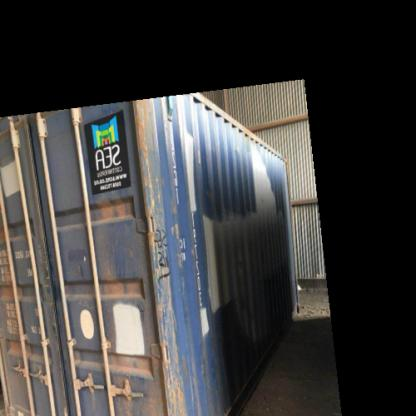Damage: (160, 337, 190, 414), (146, 216, 176, 280), (130, 98, 160, 158), (92, 191, 134, 221), (110, 347, 152, 377), (98, 274, 146, 300), (4, 329, 36, 359), (232, 138, 256, 158)
